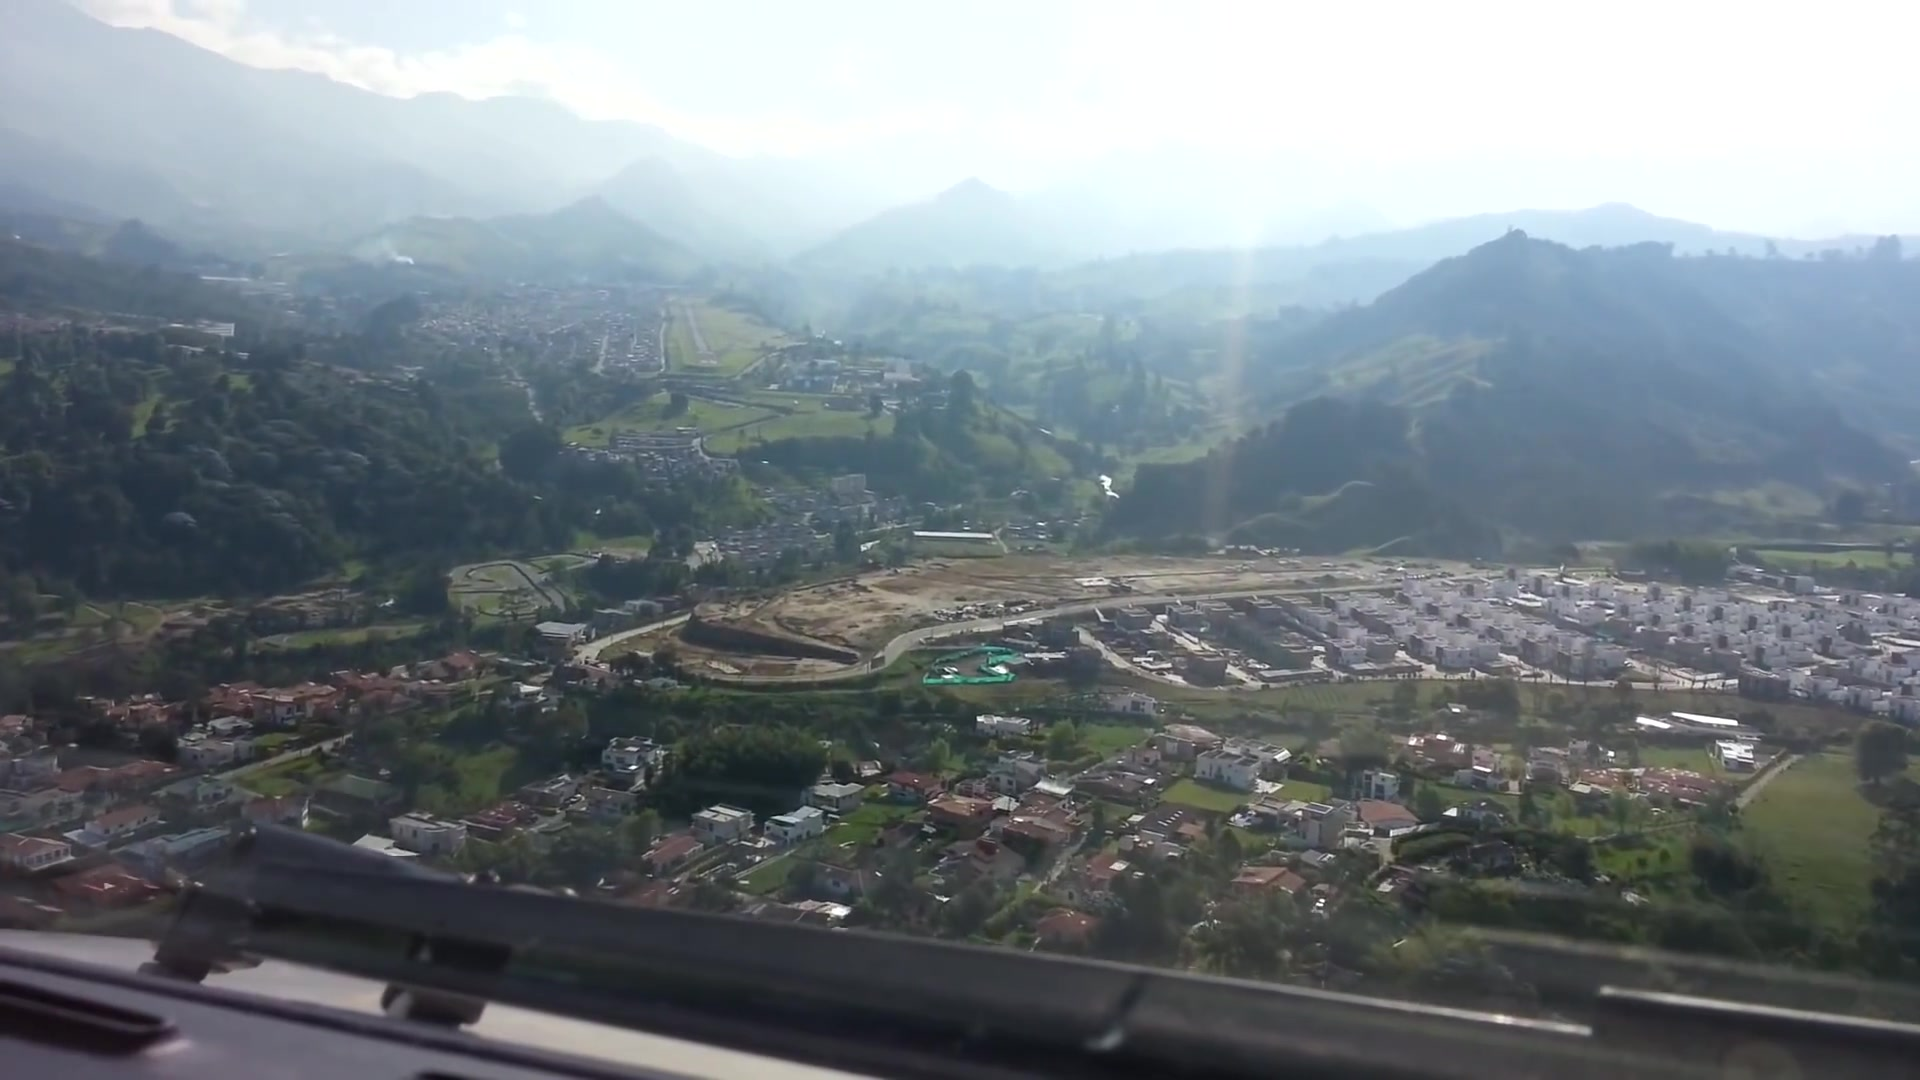runway: (680, 305, 723, 368)
